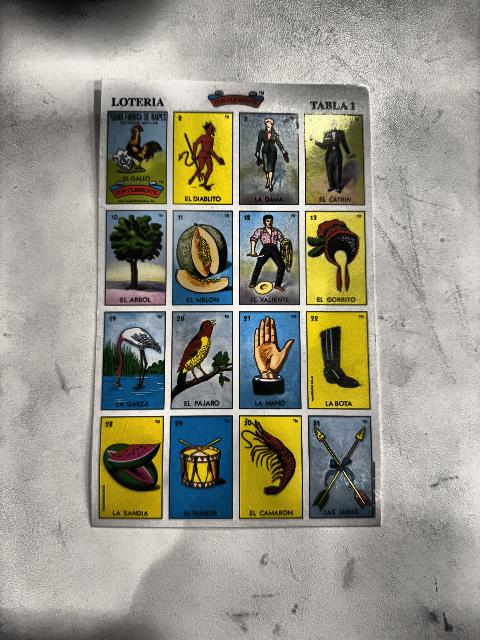El Arbol: (106, 210, 165, 305)
El Camaron: (239, 415, 304, 519)
El Catrin: (304, 114, 363, 206)
El Diablito: (173, 112, 234, 205)
El Gallo: (107, 111, 168, 205)
El Gorrito: (306, 211, 366, 305)
El Melon: (173, 211, 233, 306)
El Pajaro: (171, 311, 234, 410)
El Tambor: (170, 416, 233, 518)
El Valiente: (240, 211, 300, 305)
La Bota: (306, 311, 370, 410)
La Dama: (239, 112, 299, 206)
La Garza: (102, 311, 166, 410)
La Mano: (239, 311, 300, 410)
La Sandia: (101, 417, 165, 519)
Las Jaras: (309, 415, 373, 518)
Tabla 1: (91, 78, 381, 527)
